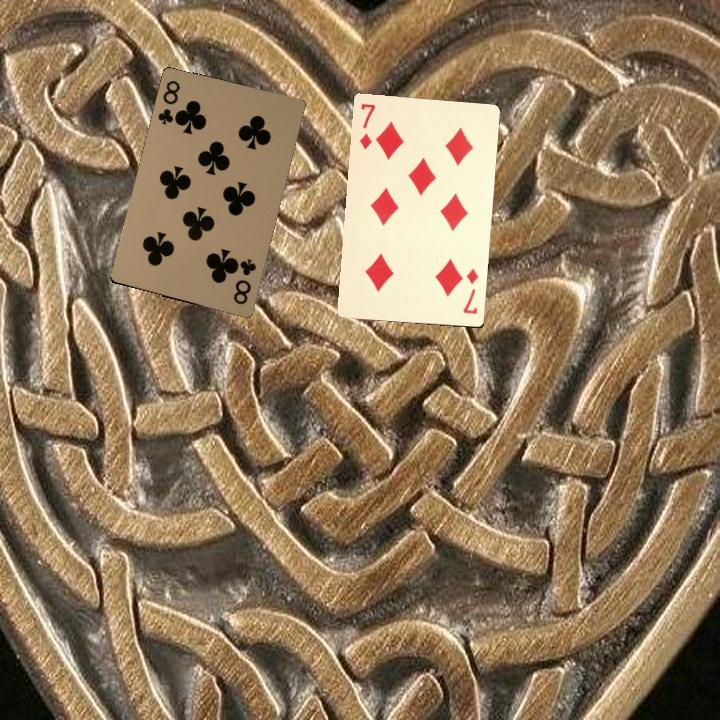7d: (356, 99, 378, 152), (459, 265, 481, 316)
8c: (229, 255, 259, 307), (154, 76, 183, 127)
